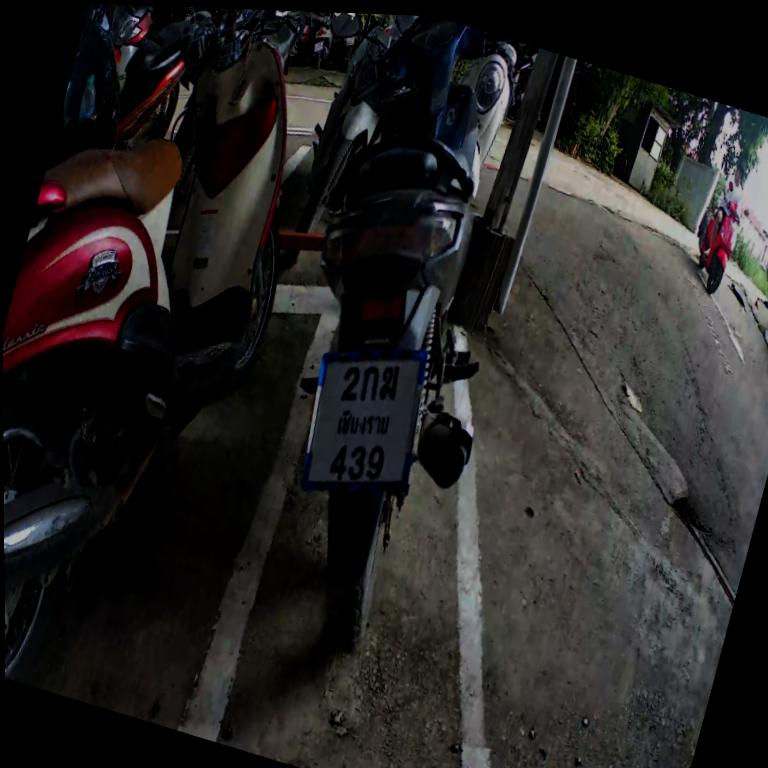license plate: (278, 312, 454, 529)
